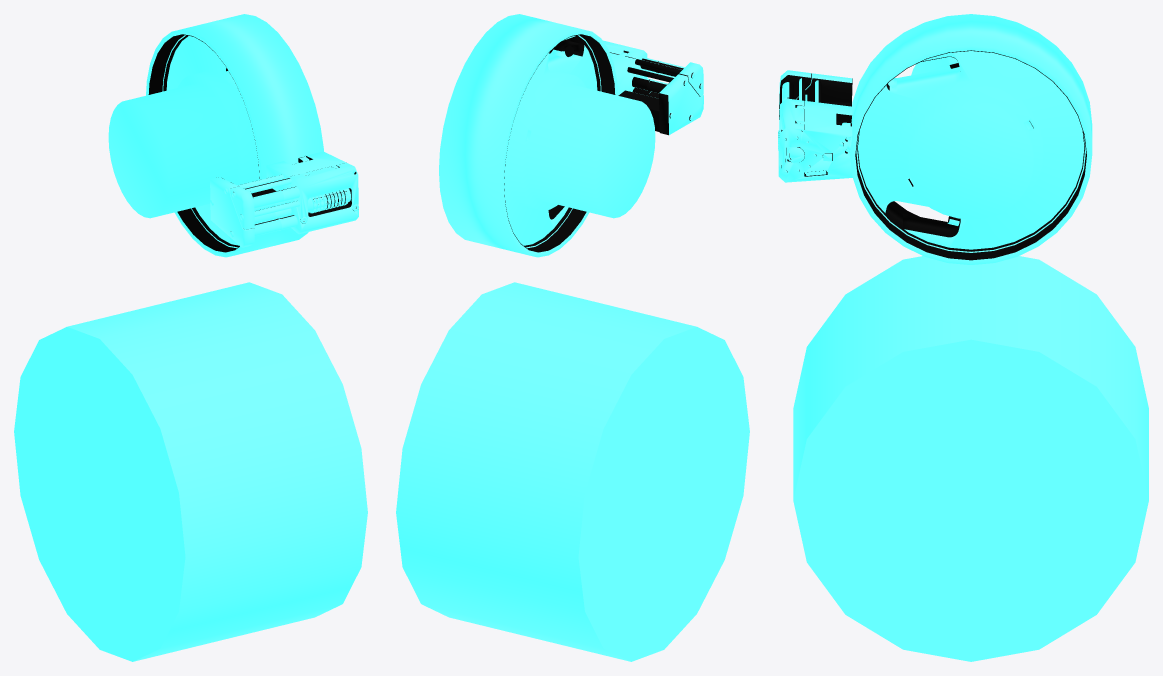
File: Note_printer.glb
3 views of the same model, side by side, from view 1: azimuth 30°, elevation 25°; view 2: azimuth 150°, elevation 25°; view 3: azimuth 270°, elevation 25° (orthographic). The views are drawn at different scales.
Parts seen in each view (by area): view 1: Cylinder.035, Cylinder.028, Cube.013, Cylinder.036, Cube.012; view 2: Cylinder.035, Cylinder.028, Cube.013, Cylinder.036, Cube.012; view 3: Cylinder.035, Cylinder.028, Cube.013, Cylinder.036, Cube.012.
Boxes of the visible parts, box(x1,y1,x2,y2) form: Cylinder.035: box(14, 282, 367, 661); Cylinder.028: box(108, 14, 323, 257); Cube.013: box(210, 151, 358, 247); Cylinder.036: box(148, 34, 259, 252); Cube.012: box(222, 156, 356, 228); Cylinder.035: box(396, 282, 749, 661); Cylinder.028: box(439, 14, 655, 257); Cube.013: box(603, 40, 703, 134); Cylinder.036: box(504, 34, 615, 252); Cube.012: box(610, 50, 700, 135); Cylinder.035: box(793, 256, 1148, 661); Cylinder.028: box(850, 14, 1092, 264); Cube.013: box(778, 70, 852, 182); Cylinder.036: box(855, 50, 1086, 260); Cube.012: box(779, 73, 852, 176).
Bounding box in the file's own units: 1.81 × 5.58 × 3.08.
